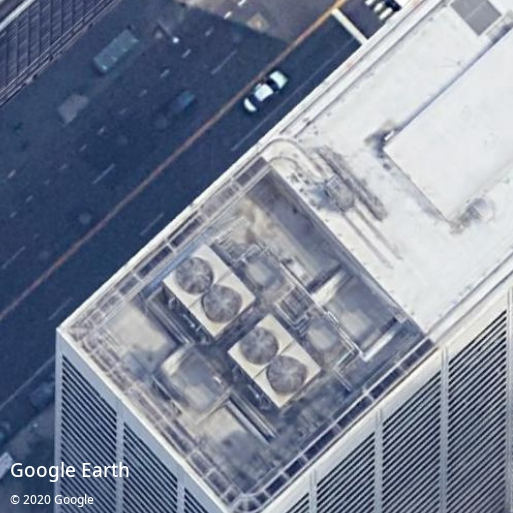Vent: (267, 356, 305, 394), (177, 257, 214, 294), (241, 328, 279, 364), (201, 287, 240, 322)
